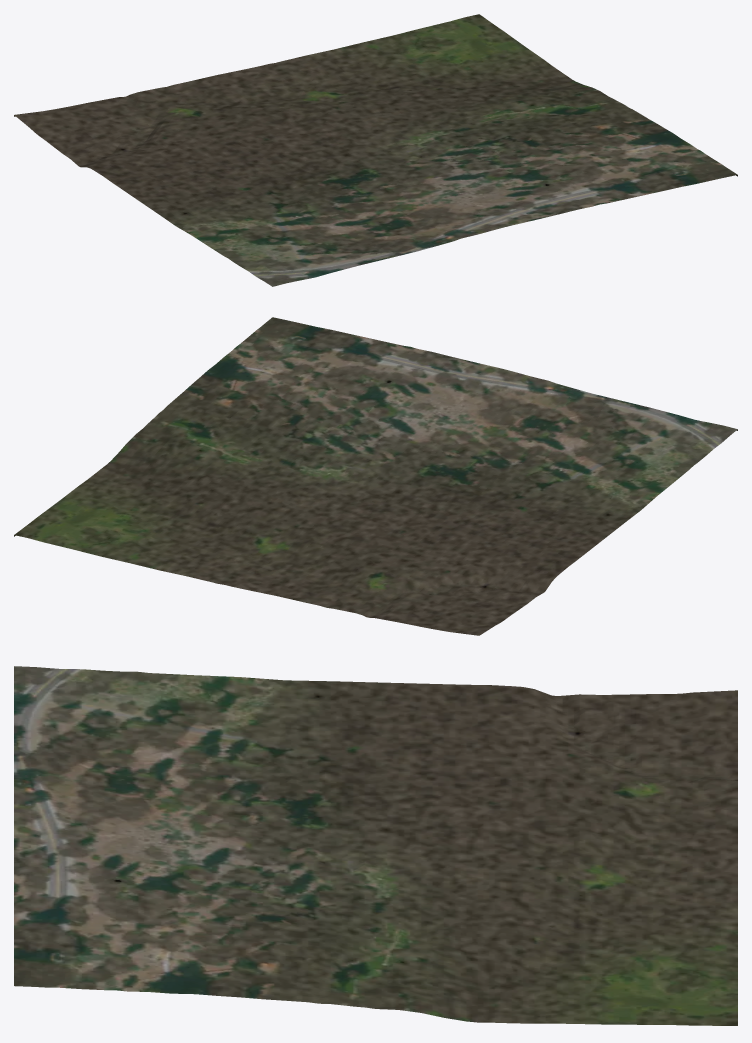
3 renders of one model, top to bottom at view 1: azimuth 30°, elevation 25°; view 2: azimuth 150°, elevation 25°; view 3: azimuth 270°, elevation 25°, orthographic. The views are drawn at different scales.
Bounding box in the file's own units: 250 × 18.14 × 241.
Materials: 1 (1 with a texture image).
